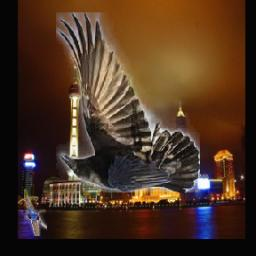Crow: (56, 12, 200, 192)
Swallow: (24, 189, 47, 236)
